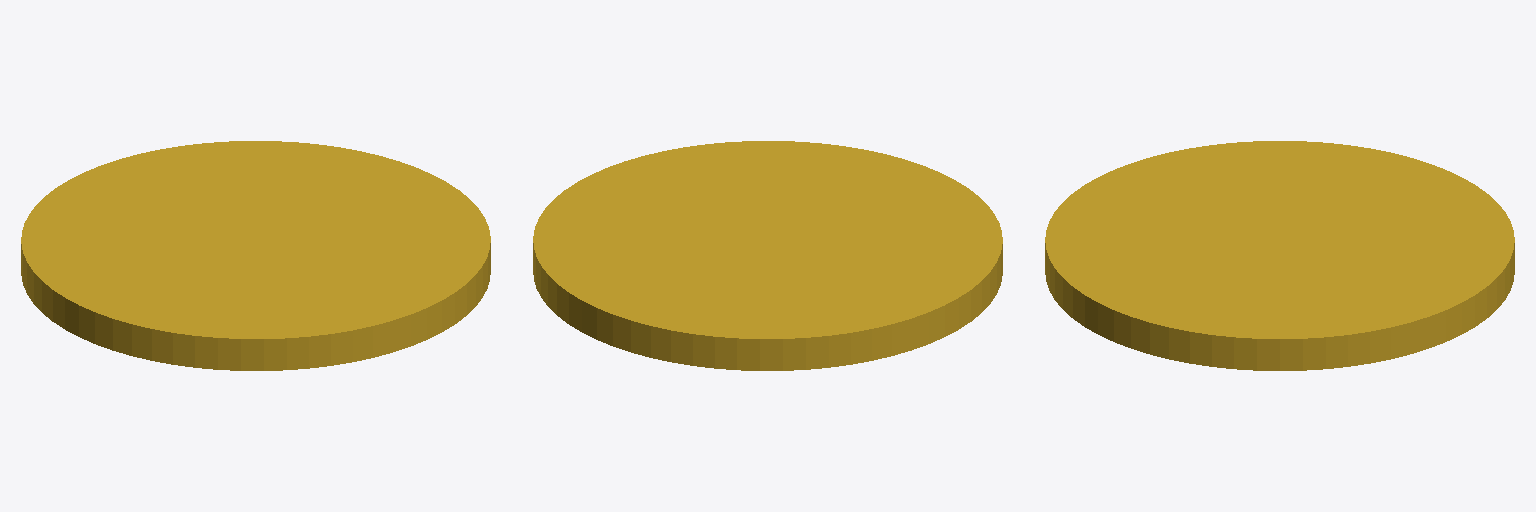
The model's file is coin_extruded.obj.
3 views of the same model, side by side, from view 1: azimuth 30°, elevation 25°; view 2: azimuth 150°, elevation 25°; view 3: azimuth 270°, elevation 25° (orthographic).
Parts seen in each view (by area): view 1: CoinExtruded; view 2: CoinExtruded; view 3: CoinExtruded.
Part boxes in pixels (x1,y1,x2,y2): CoinExtruded: (21,141,490,370); CoinExtruded: (533,141,1002,370); CoinExtruded: (1045,141,1514,370).
Bounding box in the file's own units: 2 × 0.15 × 2.